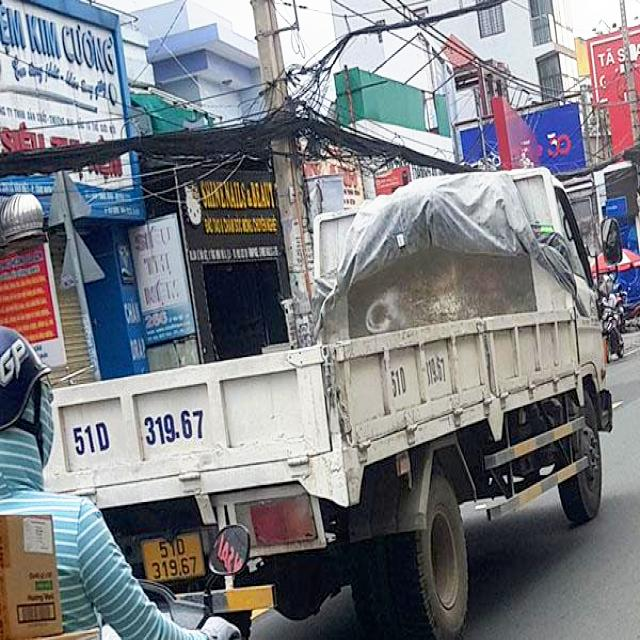license_plate: (138, 531, 206, 586)
